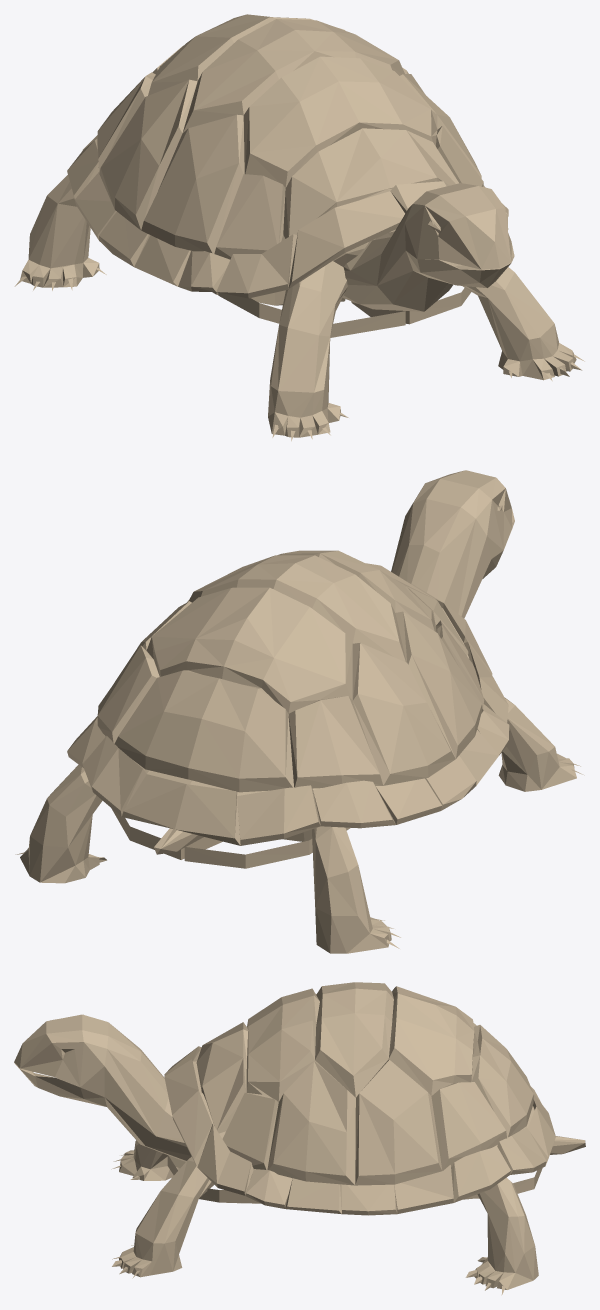
The model's file is black-tortoise.glb.
3 views of the same model, one above another, from view 1: azimuth 30°, elevation 25°; view 2: azimuth 150°, elevation 25°; view 3: azimuth 270°, elevation 25° (orthographic). The views are drawn at different scales.
Parts seen in each view (by area): view 1: Node; view 2: Node; view 3: Node.
Part boxes in pixels (box(x1,y1,x2,y2)): Node: box(14, 14, 584, 441); Node: box(15, 470, 584, 953); Node: box(14, 982, 585, 1295).
Size of the model in its own units: 14.02 by 9.52 by 21.58.
